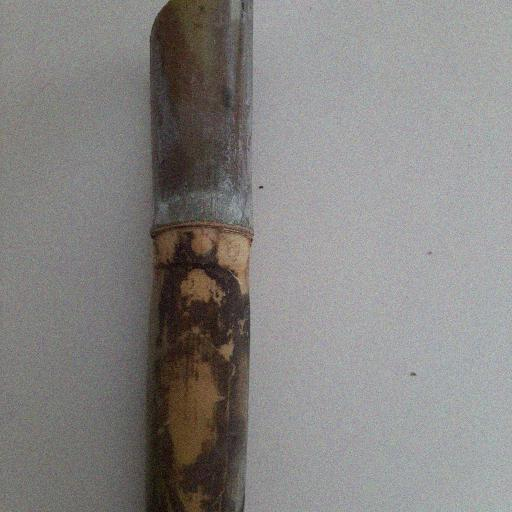Bud: (187, 230, 215, 264)
